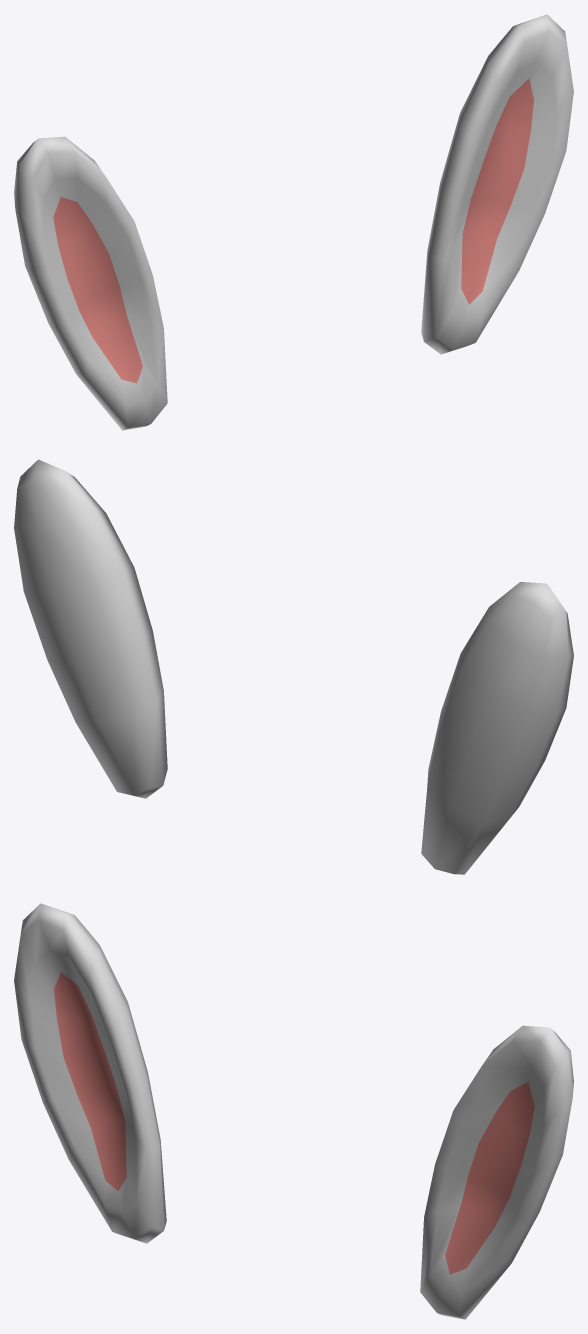
File: orejas.fbx
3 views of the same model, one above another, from view 1: azimuth 30°, elevation 25°; view 2: azimuth 150°, elevation 25°; view 3: azimuth 330°, elevation 25° (orthographic).
Parts seen in each view (by area): view 1: ACESORIO7; view 2: ACESORIO7; view 3: ACESORIO7.
Part boxes in pixels (x1,y1,x2,y2): ACESORIO7: (14, 14, 573, 430); ACESORIO7: (14, 459, 573, 874); ACESORIO7: (14, 903, 573, 1319).
Bounding box in the file's own units: 189 × 103 × 20.71.
